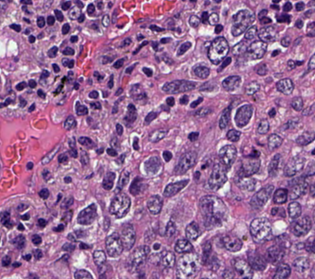nucleus: (199, 195, 226, 228), (250, 217, 272, 243), (250, 185, 273, 209), (208, 37, 228, 64), (109, 193, 130, 218), (177, 251, 198, 276), (174, 151, 196, 174), (208, 163, 226, 189), (162, 80, 195, 93), (234, 104, 252, 127), (164, 179, 188, 196), (284, 156, 304, 176), (119, 224, 135, 249), (232, 258, 252, 278), (292, 215, 311, 236), (289, 176, 306, 199), (105, 233, 122, 256), (77, 204, 96, 224), (130, 245, 149, 265), (265, 243, 284, 262), (246, 41, 266, 59), (219, 145, 236, 166), (238, 158, 259, 175), (41, 145, 59, 164), (220, 235, 241, 251), (248, 252, 266, 270), (157, 250, 175, 267), (144, 156, 161, 173), (93, 250, 105, 273), (258, 26, 275, 42), (276, 78, 293, 94), (129, 177, 145, 194), (222, 75, 240, 90), (185, 222, 200, 240), (236, 176, 255, 190), (147, 195, 161, 214), (175, 238, 192, 253), (273, 263, 290, 278), (268, 154, 280, 175), (124, 104, 136, 124), (293, 257, 309, 272), (219, 107, 230, 128), (201, 241, 211, 264), (192, 65, 209, 78), (149, 129, 166, 142), (296, 132, 313, 145), (288, 201, 301, 218), (273, 188, 287, 203), (118, 170, 129, 189), (268, 134, 281, 150), (102, 172, 114, 189), (176, 41, 190, 55), (218, 57, 231, 71), (276, 234, 289, 248), (194, 107, 211, 117), (233, 42, 246, 55), (130, 84, 143, 97), (144, 111, 157, 124), (245, 82, 259, 94), (165, 220, 175, 236), (304, 236, 314, 252), (244, 26, 256, 39), (134, 41, 147, 53), (227, 129, 240, 141), (78, 136, 93, 146), (61, 197, 73, 209), (74, 270, 92, 278), (291, 97, 302, 110), (64, 116, 75, 129), (257, 120, 268, 133), (284, 119, 298, 129), (76, 102, 87, 114), (256, 64, 267, 75), (190, 97, 202, 107), (80, 150, 88, 165), (62, 210, 72, 222), (303, 104, 313, 115), (48, 46, 57, 57), (62, 58, 73, 67), (62, 243, 74, 251), (281, 36, 290, 46), (308, 54, 314, 69), (113, 59, 123, 68), (125, 64, 135, 73), (188, 132, 198, 141), (162, 151, 171, 161), (39, 189, 49, 198), (222, 269, 233, 277), (143, 67, 152, 76), (179, 95, 188, 104), (58, 154, 67, 163), (32, 235, 41, 244), (120, 38, 130, 46), (287, 60, 295, 70), (106, 148, 116, 156), (42, 170, 50, 180), (33, 249, 41, 259), (94, 71, 102, 80), (166, 97, 174, 106), (38, 218, 46, 227), (63, 47, 73, 54), (90, 102, 100, 109), (54, 224, 64, 231), (79, 242, 89, 249), (116, 124, 122, 135), (69, 137, 75, 148), (40, 70, 48, 78), (271, 49, 280, 56), (52, 63, 59, 72), (89, 91, 98, 98), (70, 148, 77, 157), (117, 154, 124, 163), (112, 101, 117, 113), (133, 137, 138, 149), (54, 85, 61, 93), (37, 89, 44, 97), (68, 233, 75, 241), (108, 76, 113, 87), (152, 41, 158, 50), (102, 57, 111, 63), (269, 108, 275, 117), (310, 183, 314, 196), (160, 38, 170, 43), (111, 138, 117, 146), (67, 71, 72, 80), (70, 36, 77, 42), (64, 176, 71, 182), (75, 230, 82, 236), (116, 88, 122, 94), (295, 61, 302, 65), (195, 171, 199, 178), (154, 244, 159, 249), (74, 83, 78, 89), (138, 35, 142, 39), (62, 77, 66, 81), (98, 149, 102, 153), (29, 275, 37, 277), (311, 149, 314, 154), (38, 34, 42, 37)
